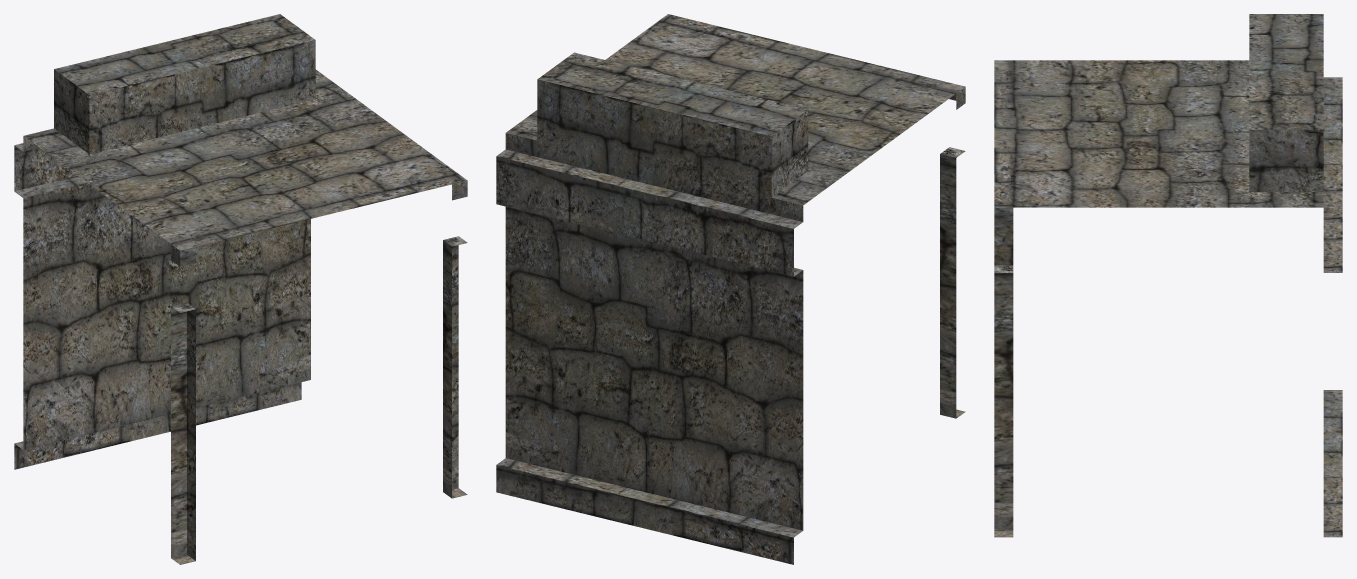
The model's file is Fort_10101000.gltf.
3 views of the same model, side by side, from view 1: azimuth 30°, elevation 25°; view 2: azimuth 150°, elevation 25°; view 3: azimuth 270°, elevation 25° (orthographic). The views are drawn at different scales.
Visible parts, largest first — view 1: Claimed_10101000; view 2: Claimed_10101000; view 3: Claimed_10101000.
Boxes of the visible parts, box(x1,y1,x2,y2) form: Claimed_10101000: box(14, 14, 467, 564); Claimed_10101000: box(496, 14, 965, 564); Claimed_10101000: box(994, 14, 1342, 537).
Size of the model in its own units: 2.5 by 3.32 by 2.5.
1 material, 1 textured.
